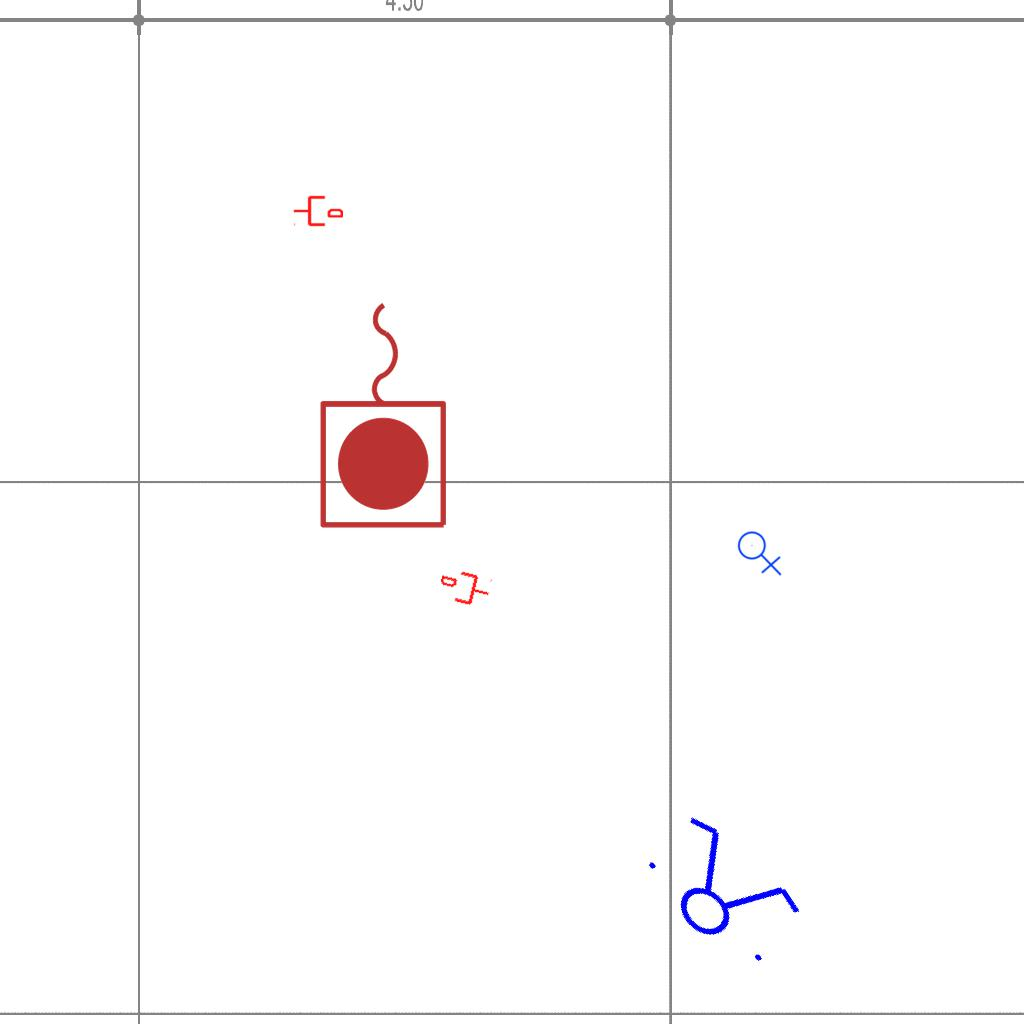Datenanschluss_einfach: (436, 565, 494, 611), (293, 194, 343, 228)
Elektroanschluss_allgemein_230V_Geraeteanschlussdose_230V: (737, 527, 784, 576)
Serienschalter: (626, 799, 816, 983)
Zugtaster: (313, 292, 457, 536)
